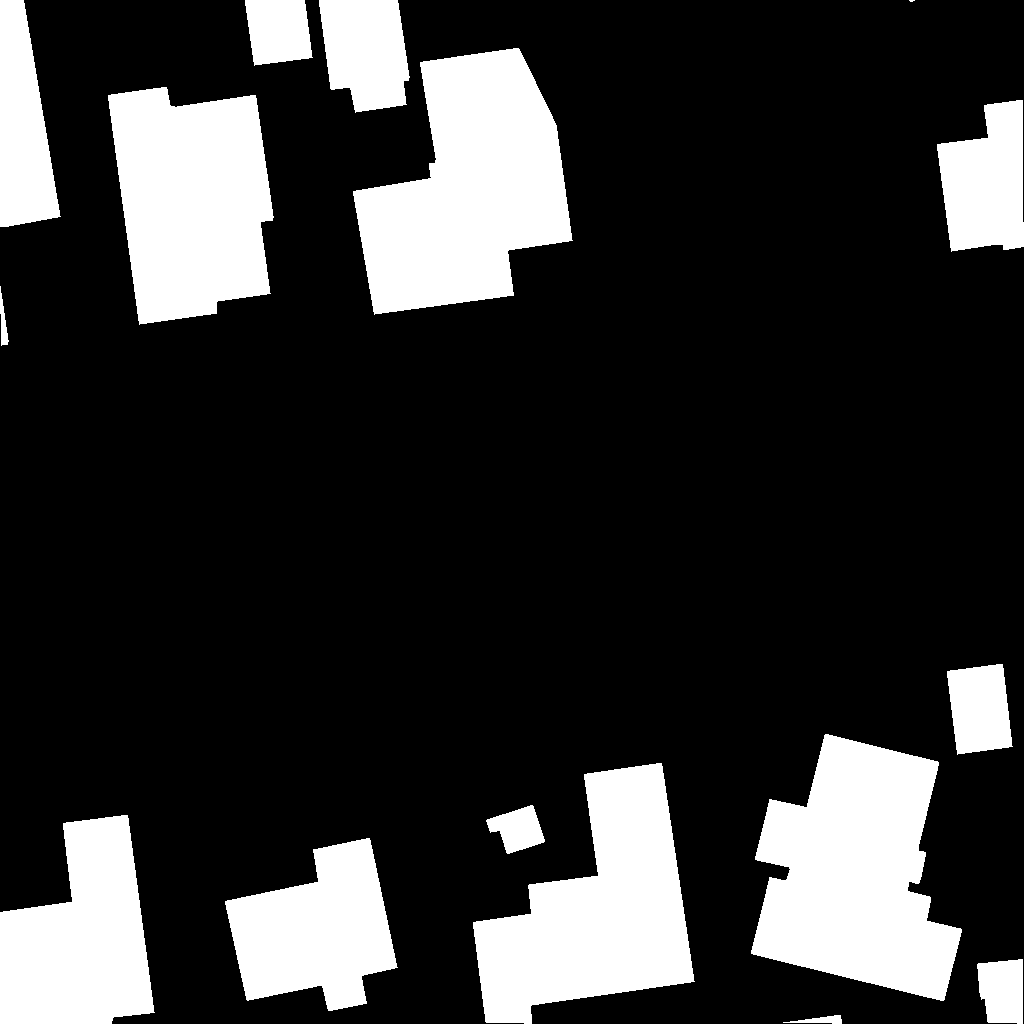building: (353, 48, 573, 315), (473, 763, 695, 1024), (751, 734, 963, 1002), (108, 87, 274, 325), (0, 815, 155, 1024), (225, 838, 398, 1012), (0, 0, 61, 346), (937, 100, 1024, 252), (319, 0, 410, 113), (947, 664, 1013, 755), (245, 0, 313, 66), (977, 959, 1024, 1024), (486, 805, 546, 855), (780, 1015, 843, 1024), (909, 0, 917, 3)
